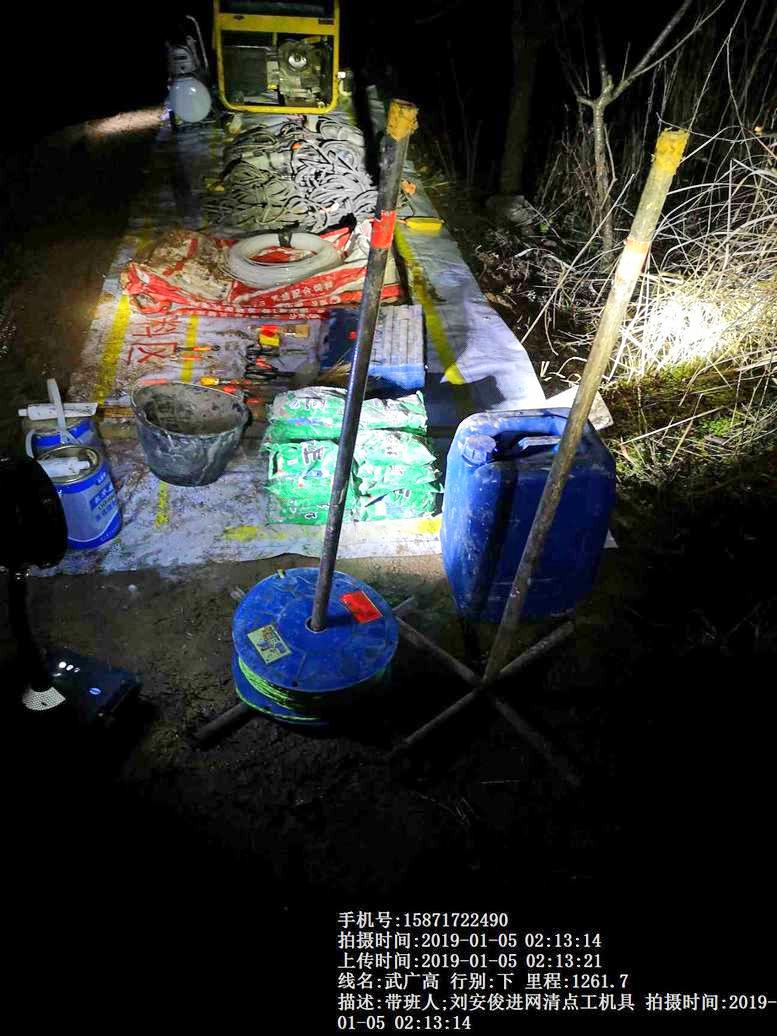DJ: (209, 6, 341, 116)
SG: (228, 236, 337, 287)
SLT: (451, 404, 615, 595)
SNT: (120, 377, 253, 484)
